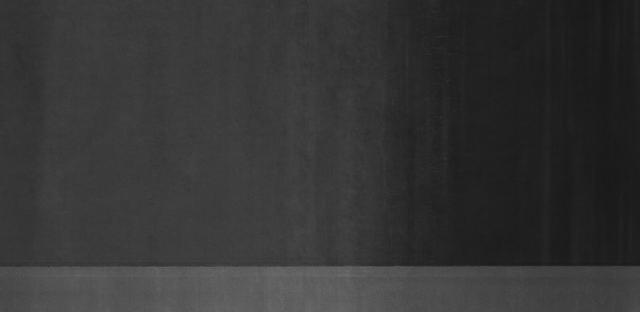welding_line: (0, 254, 640, 278)
